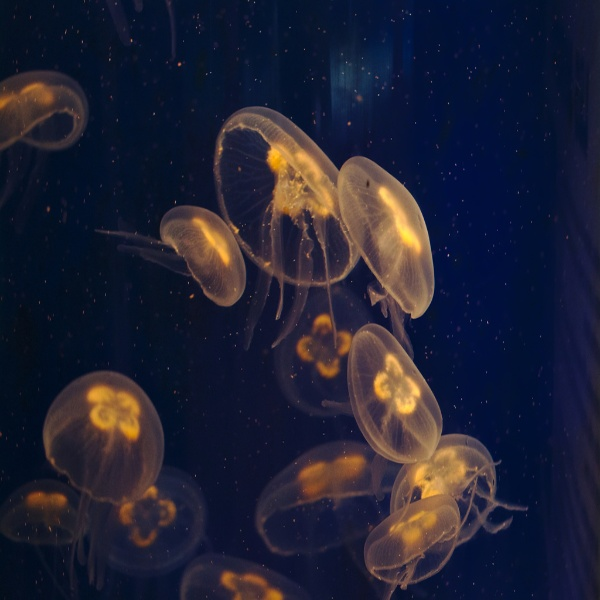Jellyfish: (0, 69, 528, 599)
